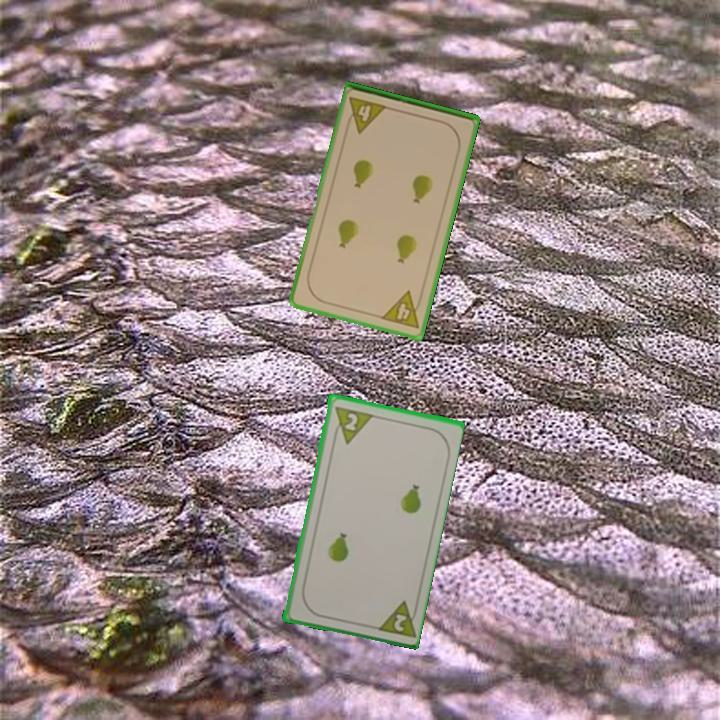2p: (371, 596, 422, 640), (329, 402, 374, 446)
4p: (377, 287, 426, 332), (342, 93, 390, 136)
